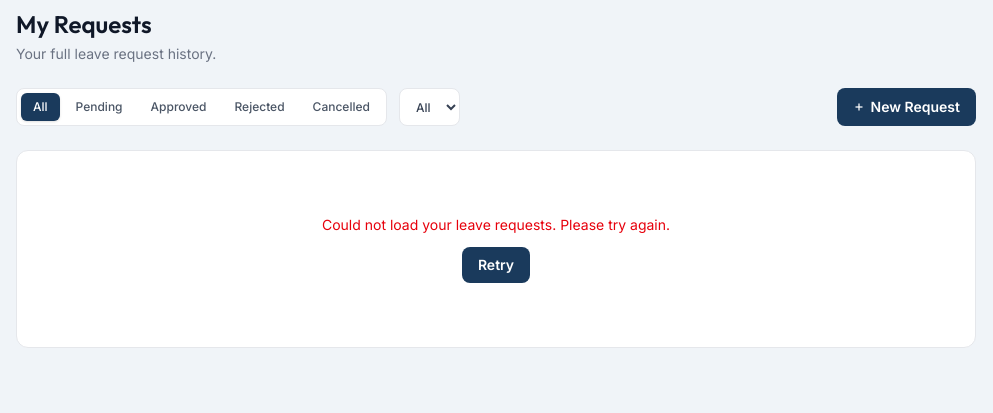
MyRequests list › shows an error state and recovers via Retry
The width and height of the screenshot is (993, 413).
Check: the text "Could not load your leave requests. Please try again." is shown, box top-left (322, 216), bottom-right (670, 233)
Check: the text "Annual Leave" is not shown
Click the button "Retry" at (496, 265), box top-left (462, 247), bottom-right (530, 283)
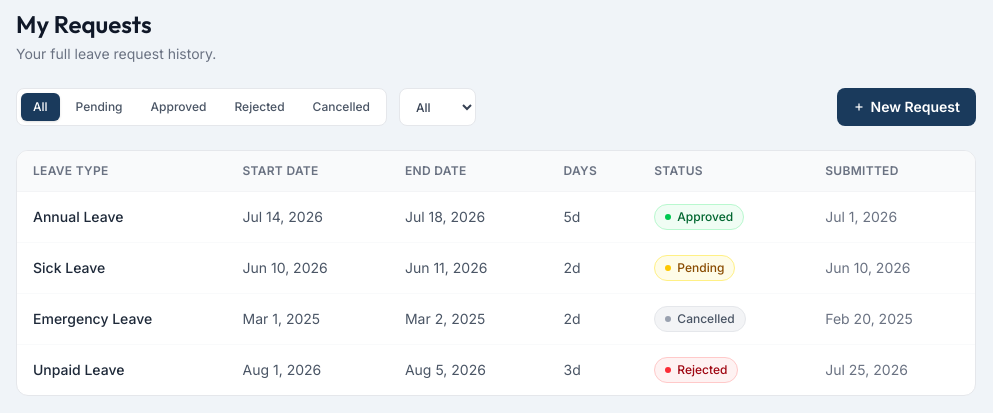
Check: the text "Annual Leave" is shown, box top-left (17, 192), bottom-right (226, 242)
